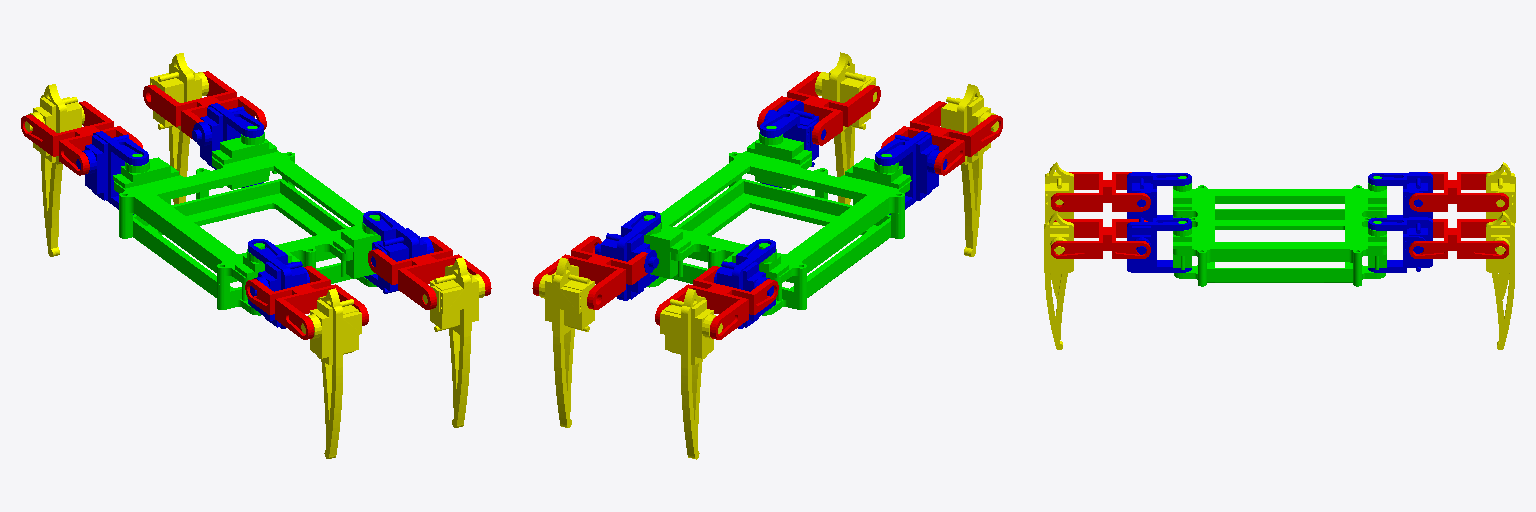
robot.urdf — spider_robot:
<?xml version="1.0"?>
<robot name="spider_robot">
  <gazebo reference="base_link">
    <material>Gazebo/Blue</material>
  </gazebo>
  <!-- colouring for front left leg starts-->
  <gazebo reference="up_fr_le">
    <material>Gazebo/Red</material>
  </gazebo>
  <gazebo reference="mid_fr_le">
    <material>Gazebo/Yellow</material>
  </gazebo>
  <gazebo reference="low_fr_le">
    <material>Gazebo/Green</material>
    <mu1>1</mu1>
    <mu2>1</mu2>
  </gazebo>
  <!-- colouring for front left leg ends-->

    <!-- colouring for front right leg starts-->
    <gazebo reference="up_fr_ri">
      <material>Gazebo/Red</material>
    </gazebo>
    <gazebo reference="mid_fr_ri">
      <material>Gazebo/Yellow</material>
    </gazebo>
    <gazebo reference="low_fr_ri">
      <mu1 value="100.0" />
      <mu2 value="100.0" />
      <kp  value="1000000.0" />
      <kd  value="1.0" />
      <material>Gazebo/Green</material>
    </gazebo>
    <!-- colouring for front right leg ends-->

      <!-- colouring for rear left leg starts-->
  <gazebo reference="up_re_le">
    <material>Gazebo/Red</material>
  </gazebo>
  <gazebo reference="mid_re_le">
    <material>Gazebo/Yellow</material>
  </gazebo>
  <gazebo reference="low_re_le">
    <mu1>1</mu1>
    <mu2>1</mu2>
    <material>Gazebo/Green</material>
  </gazebo>
  <!-- colouring for rear left leg ends-->

    <!-- colouring for rear right leg starts-->
    <gazebo reference="up_re_ri">
      <material>Gazebo/Red</material>
    </gazebo>
    <gazebo reference="mid_re_ri">
      <material>Gazebo/Yellow</material>
    </gazebo>
    <gazebo reference="low_re_ri">
      <mu1 value="100.0" />
      <mu2 value="100.0" />
      <kp  value="1000000.0" />
      <kd  value="1.0" />
      <material>Gazebo/Green</material>
    </gazebo>
    <!-- colouring for rear right leg ends-->

  

  <link name="base_link">
    <visual>
      <geometry>
        <mesh filename="package://spider_sim/meshes_final/body.stl" scale="0.001 0.001 0.001" />
      </geometry>
      <origin rpy="0 0 0" xyz="0 0 0" />
      <material name="green">
        <color rgba="0 1 0 1" />
      </material>
    </visual>
    <collision>
      <geometry>
        <mesh filename="package://spider_sim/meshes_final/body_collsion.stl" scale="0.001 0.001 0.001" />
      </geometry>
      <origin rpy="0 0 0" xyz="0 0 0" />
      <material name="green">
        <color rgba="0 1 0 1" />
      </material>
    </collision>
  </link>

  <link name="base_inertia">
    <inertial>
      <origin xyz="0.0 0.0 0.0" rpy="0.0 0.0 0.0" />
      <mass value="0.001" />
      <inertia ixx="0.001" ixy="0.001" ixz="0.001" iyy="0.001" iyz="0.001" izz="0.001" />
    </inertial>
  </link>
  <joint name="inertia2base" type="fixed">
    <origin xyz="0.0 0.0 0.0" rpy="0.0 0.0 0.0" />
    <parent link="base_link" />
    <child link="base_inertia" />
    <axis xyz="0.0 0.0 0.0" />
  </joint>

  <!-- front left leg starts-->
  <link name="up_fr_le">
    <visual>
      <geometry>
        <mesh filename="package://spider_sim/meshes_final/up_re_le.stl" scale="0.001 0.001 0.001" />
      </geometry>
      <origin rpy="0 0 0" xyz="0 0 0" />
      <material name="blue">
        <color rgba="0 0 1 1" />
      </material>
    </visual>

    <collision>
      <geometry>
        <mesh filename="package://spider_sim/meshes_final/up_fr_le_collision.stl" scale="0.001 0.001 0.001" />
      </geometry>
      <origin rpy="0 0 0" xyz="0 0 0" />
      <material name="blue">
        <color rgba="0 0 1 1" />
      </material>
    </collision>

    <inertial>
      <origin xyz="0.0 0.0 0.0" rpy="0.0 0.0 0.0" />
      <mass value="0.001" />
      <inertia ixx="0.001" ixy="0.001" ixz="0.001" iyy="0.001" iyz="0.001" izz="0.001" />
    </inertial>

  </link>
  <joint name="base2upleg_fr_le" type="revolute">
    <axis xyz="0 0 1" />
    <parent link="base_link" />
    <child link="up_fr_le" />
    <origin xyz="0.0355 0.065 0.0" rpy="0 0 0" />
    <dynamics damping="0.01" friction="0.0" />
    <limit effort="2" velocity="1.0" lower="-1.57" upper="1.57" />
  </joint>

  <transmission name="base2upleg_fr_le_trans">
    <type>transmission_interface/SimpleTransmission</type>
    <joint name="base2upleg_fr_le">
      <hardwareInterface>hardware_interface/EffortJointInterface</hardwareInterface>
    </joint>
    <actuator name="base2upleg_fr_le_motor">
      <hardwareInterface>hardware_interface/EffortJointInterface</hardwareInterface>
      <mechanicalReduction>1</mechanicalReduction>
    </actuator>
  </transmission>


  <link name="mid_fr_le">
    <visual>
      <geometry>
        <mesh filename="package://spider_sim/meshes_final/mid_fr_le.stl" scale="0.001 0.001 0.001" />
      </geometry>
      <origin rpy="0 0 0" xyz="0 0 0" />
      <material name="red">
        <color rgba="1 0 0 1" />
      </material>
    </visual>
    <collision>
      <geometry>
        <mesh filename="package://spider_sim/meshes_final/mid_fr_le_collision.stl" scale="0.001 0.001 0.001" />
      </geometry>
      <origin rpy="0 0 0" xyz="0 0 0" />
      <material name="red">
        <color rgba="1 0 0 1" />
      </material>
    </collision>

    <inertial>
      <origin xyz="0.0 0.0 0.0" rpy="0.0 0.0 0.0" />
      <mass value="0.001" />
      <inertia ixx="0.001" ixy="0.001" ixz="0.001" iyy="0.001" iyz="0.001" izz="0.001" />
    </inertial>

  </link>
  <joint name="mleg2upleg_fr_le" type="revolute">
    <axis xyz="1 0 0" />
    <parent link="up_fr_le" />
    <child link="mid_fr_le" />
    <origin xyz="0.017 0.0274 -0.00825" rpy="0 0 0" />
    <dynamics damping="0.01" friction="0.0" />
    <limit effort="2" velocity="1.0" lower="-1.57" upper="1.57" />
  </joint>


  <transmission name="mleg2upleg_fr_le_trans">
    <type>transmission_interface/SimpleTransmission</type>
    <joint name="mleg2upleg_fr_le">
      <hardwareInterface>hardware_interface/EffortJointInterface</hardwareInterface>
    </joint>
    <actuator name="mleg2upleg_fr_le_motor">
      <hardwareInterface>hardware_interface/EffortJointInterface</hardwareInterface>
      <mechanicalReduction>1</mechanicalReduction>
    </actuator>
  </transmission>

  <link name="low_fr_le">
    <visual>
      <geometry>
        <mesh filename="package://spider_sim/meshes_final/low_fr_le.stl" scale="0.001 0.001 0.001" />
      </geometry>
      <origin rpy="0 0 0" xyz="0 0 0" />
      <material name="yellow">
        <color rgba="1 1 0 1" />
      </material>
    </visual>
    <collision>
      <geometry>
        <mesh filename="package://spider_sim/meshes_final/low_fr_le_collision.stl" scale="0.001 0.001 0.001" />
      </geometry>
      <origin rpy="0 0 0" xyz="0 0 0" />
      <material name="yellow">
        <color rgba="1 1 0 1" />
      </material>
    </collision>
    <inertial>
      <origin xyz="0.0 0.0 0.0" rpy="0.0 0.0 0.0" />
      <mass value="0.001" />
      <inertia ixx="0.001" ixy="0.001" ixz="0.001" iyy="0.001" iyz="0.001" izz="0.001" />
    </inertial>
  </link>
  <joint name="mleg2lleg_fr_le" type="revolute">
    <axis xyz="1 0 0" />
    <parent link="mid_fr_le" />
    <child link="low_fr_le" />
    <origin xyz="0.0 0.055 0.0" rpy="0 0 0" />
    <dynamics damping="0.01" friction="0.0" />
    <limit effort="2" velocity="1.0" lower="-1.57" upper="1.57" />
  </joint>

  <transmission name="mleg2lleg_fr_le_trans">
    <type>transmission_interface/SimpleTransmission</type>
    <joint name="mleg2lleg_fr_le">
      <hardwareInterface>hardware_interface/EffortJointInterface</hardwareInterface>
    </joint>
    <actuator name="mleg2lleg_fr_le_motor">
      <hardwareInterface>hardware_interface/EffortJointInterface</hardwareInterface>
      <mechanicalReduction>1</mechanicalReduction>
    </actuator>
  </transmission>

  <!-- back right leg starts-->

  <link name="up_re_ri">
    <visual>
      <geometry>
        <mesh filename="package://spider_sim/meshes_final/up_fr_le.stl" scale="0.001 0.001 0.001" />
      </geometry>
      <origin rpy="0 0 0" xyz="0 0 0" />
      <material name="blue">
        <color rgba="0 0 1 1" />
      </material>
    </visual>
    <collision>
      <geometry>
        <mesh filename="package://spider_sim/meshes_final/up_fr_le_collision.stl" scale="0.001 0.001 0.001" />
      </geometry>
      <origin rpy="0 0 0" xyz="0 0 0" />
      <material name="blue">
        <color rgba="0 0 1 1" />
      </material>
    </collision>
    <inertial>
      <origin xyz="0.0 0.0 0.0" rpy="0.0 0.0 0.0" />
      <mass value="0.001" />
      <inertia ixx="0.001" ixy="0.001" ixz="0.001" iyy="0.001" iyz="0.001" izz="0.001" />
    </inertial>
  </link>
  <joint name="base2upleg_ba_ri" type="revolute">
    <axis xyz="0 0 1" />
    <parent link="base_link" />
    <child link="up_re_ri" />
    <origin xyz="-0.0355 -0.065 0.0" rpy="0 0 3.141592654" />
    <dynamics damping="0.01" friction="0.0" />
    <limit effort="2" velocity="1.0" lower="-1.57" upper="1.57" />
  </joint>

  <transmission name="base2upleg_ba_ri_trans">
    <type>transmission_interface/SimpleTransmission</type>
    <joint name="base2upleg_ba_ri">
      <hardwareInterface>hardware_interface/EffortJointInterface</hardwareInterface>
    </joint>
    <actuator name="base2upleg_ba_ri_motor">
      <hardwareInterface>hardware_interface/EffortJointInterface</hardwareInterface>
      <mechanicalReduction>1</mechanicalReduction>
    </actuator>
  </transmission>
  


  <link name="mid_re_ri">
    <visual>
      <geometry>
        <mesh filename="package://spider_sim/meshes_final/mid_fr_le.stl" scale="0.001 0.001 0.001" />
      </geometry>
      <origin rpy="0 0 0" xyz="0 0 0" />
      <material name="red">
        <color rgba="1 0 0 1" />
      </material>
    </visual>

    <collision>
      <geometry>
        <mesh filename="package://spider_sim/meshes_final/mid_fr_le_collision.stl" scale="0.001 0.001 0.001" />
      </geometry>
      <origin rpy="0 0 0" xyz="0 0 0" />
      <material name="red">izz
        <color rgba="1 0 0 1" />
      </material>
    </collision>
    <inertial>
      <origin xyz="0.0 0.0 0.0" rpy="0.0 0.0 0.0" />
      <mass value="0.001" />
      <inertia ixx="0.001" ixy="0.001" ixz="0.001" iyy="0.001" iyz="0.001" izz="0.001" />
    </inertial>
  </link>
  <joint name="mleg2upleg_ba_ri" type="revolute">
    <axis xyz="1 0 0" />
    <parent link="up_re_ri" />
    <child link="mid_re_ri" />
    <origin xyz="0.017 0.0274 -0.00825" rpy="0 0 0" />
    <dynamics damping="0.01" friction="0.0" />
    <limit effort="2" velocity="1.0" lower="-1.57" upper="1.57" />
  </joint>

  <transmission name="mleg2upleg_ba_ri_trans">
    <type>transmission_interface/SimpleTransmission</type>
    <joint name="mleg2upleg_ba_ri">
      <hardwareInterface>hardware_interface/EffortJointInterface</hardwareInterface>
    </joint>
    <actuator name="mleg2upleg_ba_ri_motor">
      <hardwareInterface>hardware_interface/EffortJointInterface</hardwareInterface>
      <mechanicalReduction>1</mechanicalReduction>
    </actuator>
  </transmission>

  <link name="low_re_ri">
    <visual>
      <geometry>
        <mesh filename="package://spider_sim/meshes_final/low_fr_le.stl" scale="0.001 0.001 0.001" />
      </geometry>
      <origin rpy="0 0 0" xyz="0 0 0" />
      <material name="yellow">
        <color rgba="1 1 0 1" />
      </material>
    </visual>

    <collision>
      <geometry>
        <mesh filename="package://spider_sim/meshes_final/low_fr_le.stl" scale="0.001 0.001 0.001" />
      </geometry>
      <origin rpy="0 0 0" xyz="0 0 0" />
      <material name="yellow">
        <color rgba="1 1 0 1" />
      </material>
    </collision>
    <inertial>
      <origin xyz="0.0 0.0 0.0" rpy="0.0 0.0 0.0" />
      <mass value="0.001" />
      <inertia ixx="0.001" ixy="0.001" ixz="0.001" iyy="0.001" iyz="0.001" izz="0.001" />
    </inertial>
  </link>

  <joint name="mleg2lleg_ba_ri" type="revolute">
    <axis xyz="1 0 0" />
    <parent link="mid_re_ri" />
    <child link="low_re_ri" />
    <origin xyz="0.0 0.055 0.0" rpy="0 0 0" />
    <dynamics damping="0.01" friction="0.0" />
    <limit effort="2" velocity="1.0" lower="-1.57" upper="1.57" />
  </joint>

  <transmission name="mleg2lleg_ba_ri_trans">
    <type>transmission_interface/SimpleTransmission</type>
    <joint name="mleg2lleg_ba_ri">
      <hardwareInterface>hardware_interface/EffortJointInterface</hardwareInterface>
    </joint>
    <actuator name="mleg2lleg_ba_ri_motor">
      <hardwareInterface>hardware_interface/EffortJointInterface</hardwareInterface>
      <mechanicalReduction>1</mechanicalReduction>
    </actuator>
  </transmission>
  <!-- rear left leg starts here-->

  <link name="up_re_le">
    <visual>
      <geometry>
        <mesh filename="package://spider_sim/meshes_final/up_re_le.stl" scale="0.001 0.001 0.001" />
      </geometry>
      <origin rpy="0 0 0" xyz="0 0 0" />
      <material name="blue">
        <color rgba="0 0 1 1" />
      </material>
    </visual>

    <collision>
      <geometry>
        <mesh filename="package://spider_sim/meshes_final/up_re_le_collision.stl" scale="0.001 0.001 0.001" />
      </geometry>
      <origin rpy="0 0 0" xyz="0 0 0" />
      <material name="blue">
        <color rgba="0 0 1 1" />
      </material>
    </collision>
    <inertial>
      <origin xyz="0.0 0.0 0.0" rpy="0.0 0.0 0.0" />
      <mass value="0.001" />
      <inertia ixx="0.001" ixy="0.001" ixz="0.001" iyy="0.001" iyz="0.001" izz="0.001" />
    </inertial>
  </link>

  <joint name="base2upleg_re_le" type="revolute">
    <axis xyz="0 0 1" />
    <parent link="base_link" />
    <child link="up_re_le" />
    <origin xyz="0.0355 -0.065 0.0" rpy="0 0 3.141592654" />
    <dynamics damping="0.01" friction="0.0" />
    <limit effort="2" velocity="1.0" lower="-1.57" upper="1.57" />
  </joint>

  <transmission name="base2upleg_re_le_trans">
    <type>transmission_interface/SimpleTransmission</type>
    <joint name="base2upleg_re_le">
      <hardwareInterface>hardware_interface/EffortJointInterface</hardwareInterface>
    </joint>
    <actuator name="base2upleg_re_le_motor">
      <hardwareInterface>hardware_interface/EffortJointInterface</hardwareInterface>
      <mechanicalReduction>1</mechanicalReduction>
    </actuator>
  </transmission>

  <link name="mid_re_le">
    <visual>
      <geometry>
        <mesh filename="package://spider_sim/meshes_final/mid_re_le.stl" scale="0.001 0.001 0.001" />
      </geometry>
      <origin rpy="0 0 0" xyz="0 0 0" />
      <material name="red">
        <color rgba="1 0 0 1" />
      </material>
    </visual>
    <collision>
      <geometry>
        <mesh filename="package://spider_sim/meshes_final/mid_re_le_collision.stl" scale="0.001 0.001 0.001" />
      </geometry>
      <origin rpy="0 0 0" xyz="0 0 0" />
      <material name="red">
        <color rgba="1 0 0 1" />
      </material>
    </collision>
    <inertial>
      <origin xyz="0.0 0.0 0.0" rpy="0.0 0.0 0.0" />
      <mass value="0.001" />
      <inertia ixx="0.001" ixy="0.001" ixz="0.001" iyy="0.001" iyz="0.001" izz="0.001" />
    </inertial>
  </link>

  <joint name="mleg2upleg_re_le" type="revolute">
    <axis xyz="1 0 0" />
    <parent link="up_re_le" />
    <child link="mid_re_le" />
    <origin xyz="-0.017 0.0274 -0.00825" rpy="0 0 0" />
    <dynamics damping="0.01" friction="0.0" />
    <limit effort="2" velocity="1.0" lower="-1.57" upper="1.57" />
  </joint>

  <transmission name="mleg2upleg_re_le_trans">
    <type>transmission_interface/SimpleTransmission</type>
    <joint name="mleg2upleg_re_le">
      <hardwareInterface>hardware_interface/EffortJointInterface</hardwareInterface>
    </joint>
    <actuator name="mleg2upleg_re_le_motor">
      <hardwareInterface>hardware_interface/EffortJointInterface</hardwareInterface>
      <mechanicalReduction>1</mechanicalReduction>
    </actuator>
  </transmission>

  <link name="low_re_le">
    <visual>
      <geometry>
        <mesh filename="package://spider_sim/meshes_final/low_re_le.stl" scale="0.001 0.001 0.001" />
      </geometry>
      <origin rpy="0 0 0" xyz="0 0 0" />
      <material name="yellow">
        <color rgba="1 1 0 1" />
      </material>
    </visual>
    <collision>
      <geometry>
        <mesh filename="package://spider_sim/meshes_final/low_re_le_collision.stl" scale="0.001 0.001 0.001" />
      </geometry>
      <origin rpy="0 0 0" xyz="0 0 0" />
      <material name="yellow">
        <color rgba="1 1 0 1" />
      </material>
    </collision>
    <inertial>
      <origin xyz="0.0 0.0 0.0" rpy="0.0 0.0 0.0" />
      <mass value="0.001" />
      <inertia ixx="0.001" ixy="0.001" ixz="0.001" iyy="0.001" iyz="0.001" izz="0.001" />
    </inertial>
  </link>
  <joint name="mleg2lleg_re_le" type="revolute">
    <axis xyz="1 0 0" />
    <parent link="mid_re_le" />
    <child link="low_re_le" />
    <origin xyz="0.0 0.055 0.0" rpy="0 0 0" />
    <dynamics damping="0.01" friction="0.0" />
    <limit effort="2" velocity="1.0" lower="-1.57" upper="1.57" />
  </joint>

  <transmission name="mleg2lleg_re_le_trans">
    <type>transmission_interface/SimpleTransmission</type>
    <joint name="mleg2lleg_re_le">
      <hardwareInterface>hardware_interface/EffortJointInterface</hardwareInterface>
    </joint>
    <actuator name="mleg2lleg_re_le_motor">
      <hardwareInterface>hardware_interface/EffortJointInterface</hardwareInterface>
      <mechanicalReduction>1</mechanicalReduction>
    </actuator>
  </transmission>
  

  <!-- front right leg starts here-->


  <link name="up_fr_ri">
    <visual>
      <geometry>
        <mesh filename="package://spider_sim/meshes_final/up_re_le.stl" scale="0.001 0.001 0.001" />
      </geometry>
      <origin rpy="0 0 0" xyz="0 0 0" />
      <material name="blue">
        <color rgba="0 0 1 1" />
      </material>
    </visual>
    <collision>
      <geometry>
        <mesh filename="package://spider_sim/meshes_final/up_re_le_collision.stl" scale="0.001 0.001 0.001" />
      </geometry>
      <origin rpy="0 0 0" xyz="0 0 0" />
      <material name="blue">
        <color rgba="0 0 1 1" />
      </material>
    </collision>
    <inertial>
      <origin xyz="0.0 0.0 0.0" rpy="0.0 0.0 0.0" />
      <mass value="0.001" />
      <inertia ixx="0.001" ixy="0.001" ixz="0.001" iyy="0.001" iyz="0.001" izz="0.001" />
    </inertial>
  </link>
  <joint name="base2upleg_fr_ri" type="revolute">
    <axis xyz="0 0 1" />
    <parent link="base_link" />
    <child link="up_fr_ri" />
    <origin xyz="-0.0355 0.065 0.0" rpy="0 0 0" />
    <dynamics damping="0.01" friction="0.0" />
    <limit effort="2" velocity="1.0" lower="-1.57" upper="1.57" />
  </joint>

  <transmission name="base2upleg_fr_ri_trans">
    <type>transmission_interface/SimpleTransmission</type>
    <joint name="base2upleg_fr_ri">
      <hardwareInterface>hardware_interface/EffortJointInterface</hardwareInterface>
    </joint>
    <actuator name="base2upleg_fr_ri_motor">
      <hardwareInterface>hardware_interface/EffortJointInterface</hardwareInterface>
      <mechanicalReduction>1</mechanicalReduction>
    </actuator>
  </transmission>

  <link name="mid_fr_ri">
    <visual>
      <geometry>
        <mesh filename="package://spider_sim/meshes_final/mid_re_le.stl" scale="0.001 0.001 0.001" />
      </geometry>
      <origin rpy="0 0 0" xyz="0 0 0" />
      <material name="red">
        <color rgba="1 0 0 1" />
      </material>
    </visual>
    <collision>
      <geometry>
        <mesh filename="package://spider_sim/meshes_final/mid_re_le_collision.stl" scale="0.001 0.001 0.001" />
      </geometry>
      <origin rpy="0 0 0" xyz="0 0 0" />
      <material name="red">
        <color rgba="1 0 0 1" />
      </material>
    </collision>
    <inertial>
      <origin xyz="0.0 0.0 0.0" rpy="0.0 0.0 0.0" />
      <mass value="0.001" />
      <inertia ixx="0.001" ixy="0.001" ixz="0.001" iyy="0.001" iyz="0.001" izz="0.001" />
    </inertial>
  </link>
  <joint name="mleg2upleg_fr_ri" type="revolute">
    <axis xyz="1 0 0" />
    <parent link="up_fr_ri" />
    <child link="mid_fr_ri" />
    <origin xyz="-0.017 0.0274 -0.00825" rpy="0 0 0" />
    <dynamics damping="0.01" friction="0.0" />
    <limit effort="2" velocity="1.0" lower="-1.57" upper="1.57" />
  </joint>

  <transmission name="mleg2upleg_fr_ri_trans">
    <type>transmission_interface/SimpleTransmission</type>
    <joint name="mleg2upleg_fr_ri">
      <hardwareInterface>hardware_interface/EffortJointInterface</hardwareInterface>
    </joint>
    <actuator name="mleg2upleg_fr_ri_motor">
      <hardwareInterface>hardware_interface/EffortJointInterface</hardwareInterface>
      <mechanicalReduction>1</mechanicalReduction>
    </actuator>
  </transmission>

  <link name="low_fr_ri">
    <visual>
      <geometry>
        <mesh filename="package://spider_sim/meshes_final/low_re_le.stl" scale="0.001 0.001 0.001" />
      </geometry>
      <origin rpy="0 0 0" xyz="0 0 0" />
      <material name="yellow">
        <color rgba="1 1 0 1" />
      </material>
    </visual>
    <collision>
      <geometry>
        <mesh filename="package://spider_sim/meshes_final/low_re_le_collision.stl" scale="0.001 0.001 0.001" />
      </geometry>
      <origin rpy="0 0 0" xyz="0 0 0" />
      <material name="yellow">
        <color rgba="1 1 0 1" />
      </material>
    </collision>
    <inertial>
      <origin xyz="0.0 0.0 0.0" rpy="0.0 0.0 0.0" />
      <mass value="0.001" />
      <inertia ixx="0.001" ixy="0.001" ixz="0.001" iyy="0.001" iyz="0.001" izz="0.001" />
    </inertial>
  </link>
  <joint name="mleg2lleg_fr_ri" type="revolute">
    <axis xyz="1 0 0" />
    <parent link="mid_fr_ri" />
    <child link="low_fr_ri" />
    <origin xyz="0.0 0.055 0.0" rpy="0 0 0" />
    <dynamics damping="0.01" friction="0.0" />
    <limit effort="2" velocity="1.0" lower="-1.57" upper="1.57" />
  </joint>

  <transmission name="mleg2lleg_fr_ri_trans">
    <type>transmission_interface/SimpleTransmission</type>
    <joint name="mleg2lleg_fr_ri">
      <hardwareInterface>hardware_interface/EffortJointInterface</hardwareInterface>
    </joint>
    <actuator name="mleg2lleg_fr_ri_motor">
      <hardwareInterface>hardware_interface/EffortJointInterface</hardwareInterface>
      <mechanicalReduction>1</mechanicalReduction>
    </actuator>
  </transmission>

  <gazebo>
    <plugin name="gazebo_ros_control" filename="libgazebo_ros_control.so">
      <robotNamespace>/spidy</robotNamespace>
    </plugin>
  </gazebo>


</robot>

--- Facts derived from the render (not from the file) ---
Views: 3 orthographic renders of the robot side by side, from view 1: azimuth 30°, elevation 25°; view 2: azimuth 150°, elevation 25°; view 3: azimuth 270°, elevation 25°.
Robot: spider_robot — 14 links, 13 joints (12 revolute, 1 fixed); root link base_link; default pose: every joint at zero.
Links seen in each view (by area): view 1: base_link, low_re_le, low_re_ri, low_fr_ri, mid_re_ri, mid_re_le, mid_fr_ri, mid_fr_le, low_fr_le, up_fr_ri, up_fr_le, up_re_le (+1 smaller); view 2: base_link, low_fr_ri, low_fr_le, low_re_ri, mid_fr_ri, mid_fr_le, mid_re_le, mid_re_ri, low_re_le, up_re_ri, up_fr_le, up_fr_ri (+1 smaller); view 3: base_link, mid_re_ri, mid_re_le, mid_fr_ri, mid_fr_le, low_re_le, low_fr_le, up_re_le, up_fr_le, up_re_ri, up_fr_ri, low_fr_ri (+1 smaller).
Boxes of the visible links, x1=… form: base_link: x1=113, y1=126, x2=380, y2=315; low_re_le: x1=423, y1=257, x2=485, y2=427; low_re_ri: x1=301, y1=288, x2=361, y2=458; low_fr_ri: x1=25, y1=84, x2=84, y2=256; mid_re_ri: x1=245, y1=266, x2=368, y2=339; mid_re_le: x1=368, y1=236, x2=491, y2=309; mid_fr_ri: x1=21, y1=101, x2=142, y2=175; mid_fr_le: x1=143, y1=71, x2=266, y2=138; low_fr_le: x1=150, y1=53, x2=208, y2=204; up_fr_ri: x1=76, y1=131, x2=148, y2=214; up_fr_le: x1=192, y1=103, x2=263, y2=187; up_re_le: x1=363, y1=211, x2=433, y2=293; base_link: x1=644, y1=126, x2=911, y2=315; low_fr_ri: x1=660, y1=288, x2=722, y2=459; low_fr_le: x1=539, y1=257, x2=594, y2=427; low_re_ri: x1=941, y1=84, x2=998, y2=256; mid_fr_ri: x1=655, y1=266, x2=778, y2=339; mid_fr_le: x1=532, y1=236, x2=647, y2=309; mid_re_le: x1=757, y1=71, x2=880, y2=145; mid_re_ri: x1=881, y1=101, x2=1002, y2=175; low_re_le: x1=815, y1=52, x2=876, y2=204; up_re_ri: x1=875, y1=131, x2=947, y2=214; up_fr_le: x1=595, y1=211, x2=660, y2=300; up_fr_ri: x1=714, y1=239, x2=775, y2=328; base_link: x1=1173, y1=176, x2=1386, y2=286; mid_re_ri: x1=1051, y1=172, x2=1150, y2=211; mid_re_le: x1=1051, y1=219, x2=1150, y2=258; mid_fr_ri: x1=1409, y1=172, x2=1508, y2=211; mid_fr_le: x1=1409, y1=219, x2=1508, y2=258; low_re_le: x1=1044, y1=212, x2=1073, y2=349; low_fr_le: x1=1486, y1=212, x2=1514, y2=349; up_re_le: x1=1127, y1=217, x2=1191, y2=272; up_fr_le: x1=1368, y1=217, x2=1432, y2=272; up_re_ri: x1=1127, y1=172, x2=1191, y2=221; up_fr_ri: x1=1368, y1=172, x2=1432, y2=218; low_fr_ri: x1=1486, y1=162, x2=1515, y2=299.
Size in the robot's own frame: 0.113 by 0.3149 by 0.1003 metres.
13 mesh visuals loaded from 7 distinct referenced files (7 binary STL).